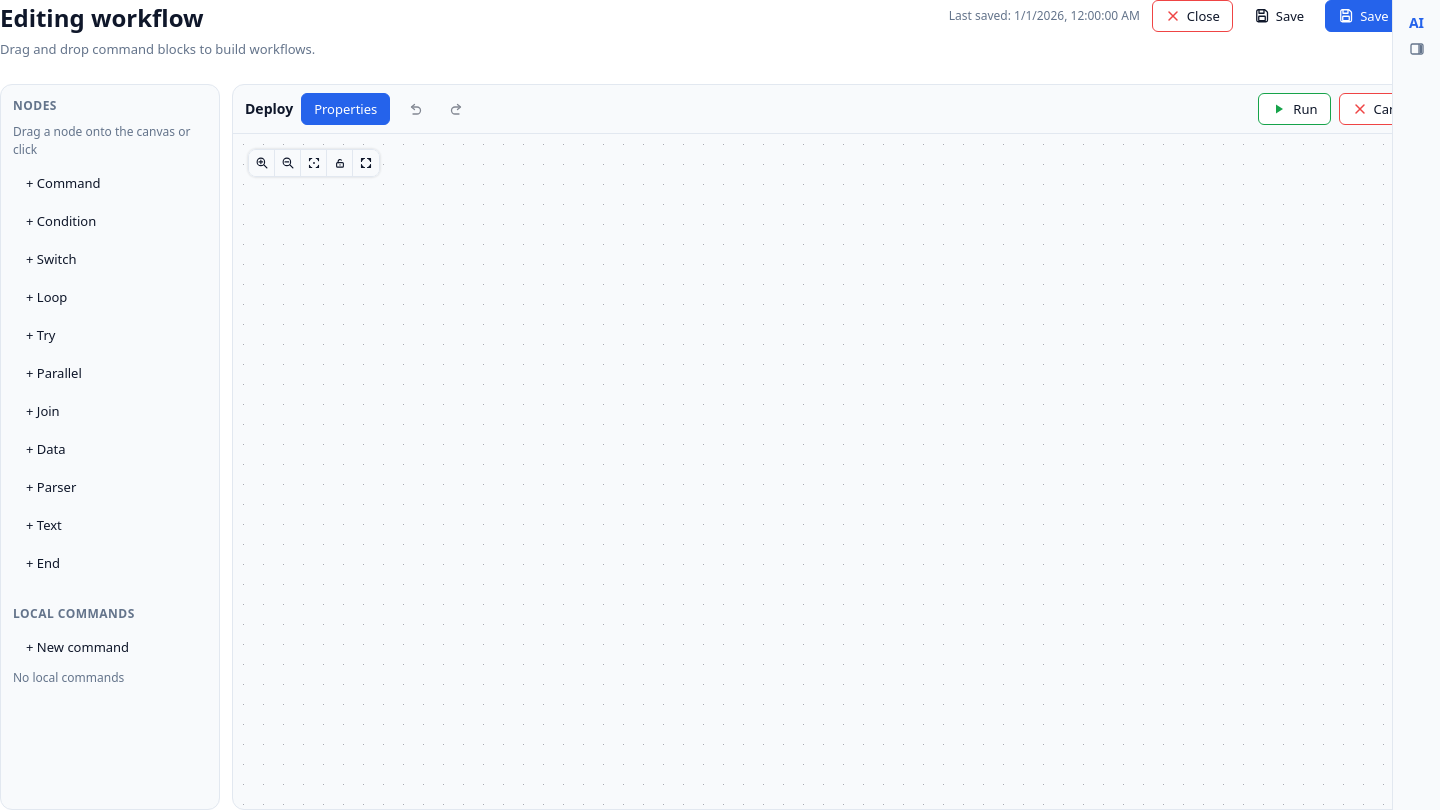
Test: Editor shell › does NOT clear the canvas when the styled confirmation is cancelled
The width and height of the screenshot is (1440, 810).
Click the button "Cancel" at [1383, 108], box [1338,92,1427,124]
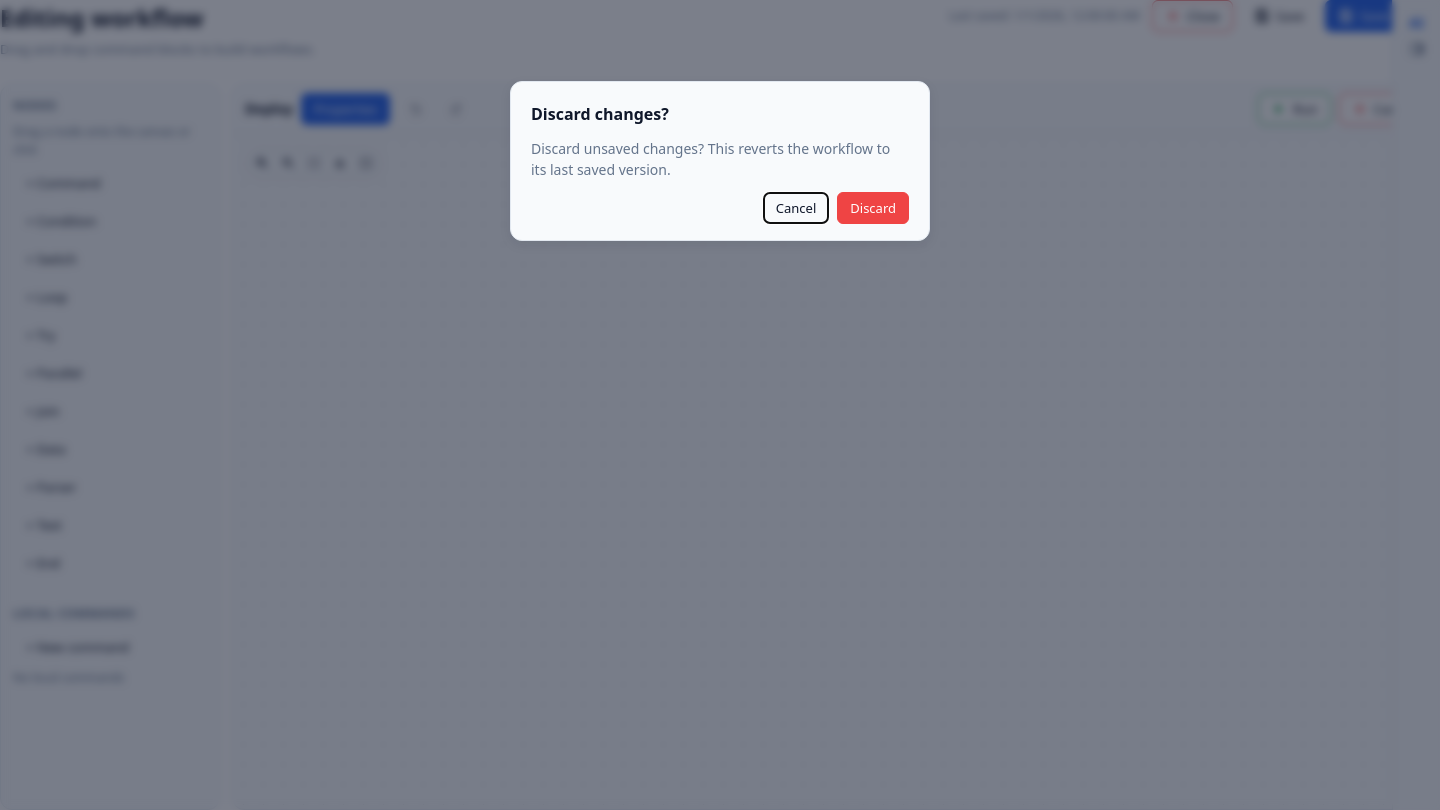
Click the button "Cancel" at [796, 208], box [763,192,829,224]
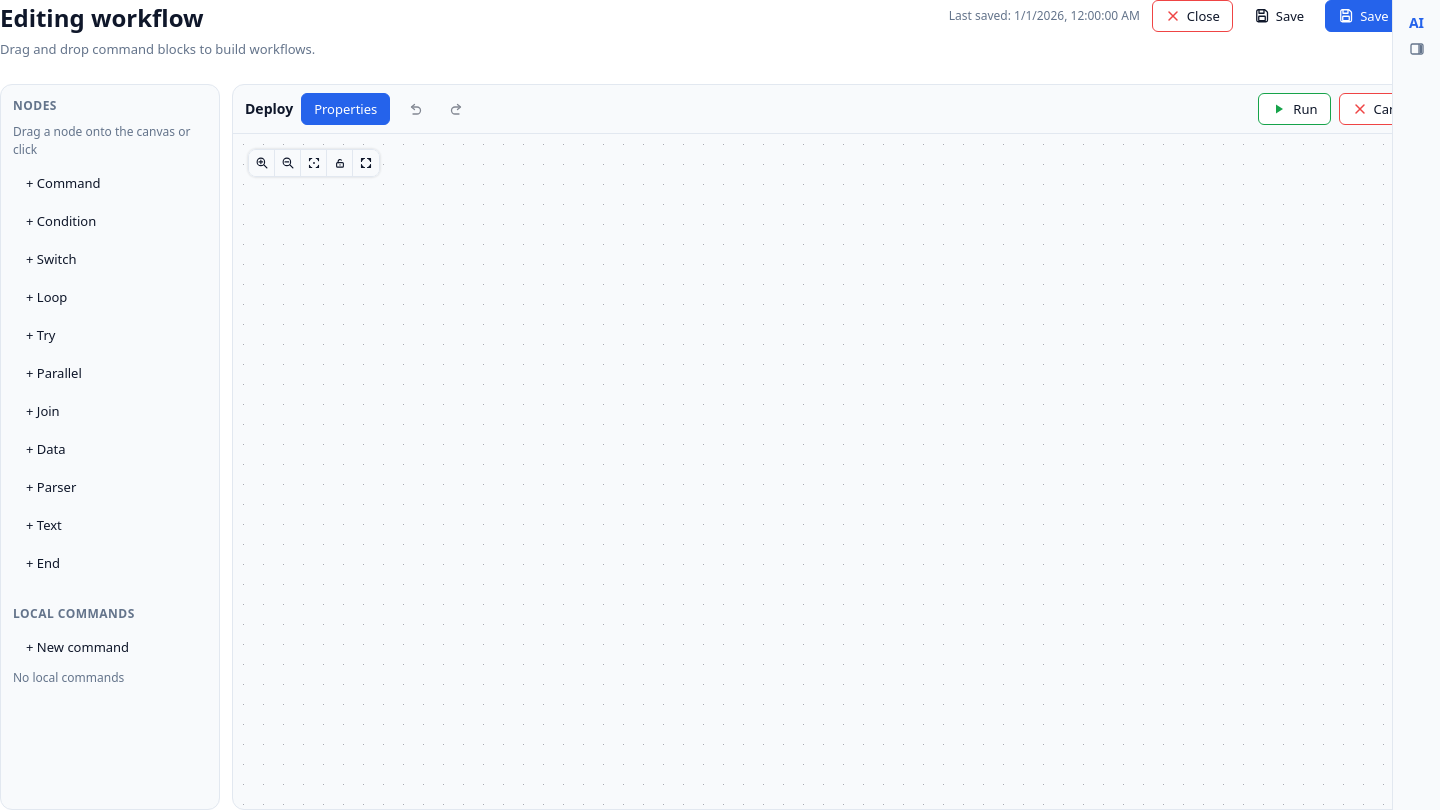
Expected: the heading "Discard changes?" is gone
